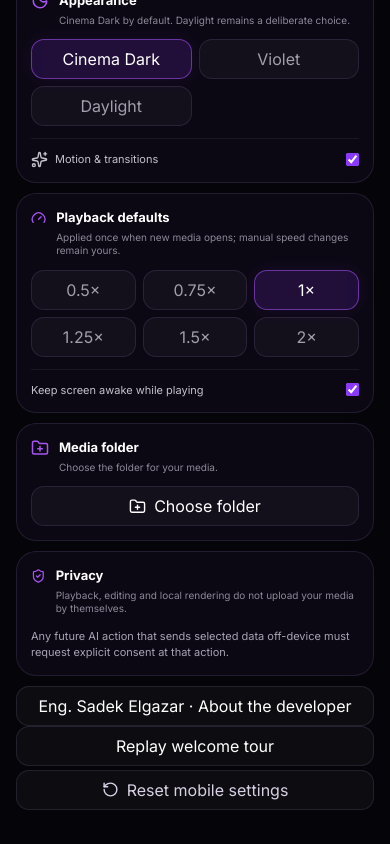
Scenario: The welcome tour is opt-in from Settings (directive §4.4) › normal startup shows no tour; the Settings button mounts it and Skip dismisses it
Step 1. Click the button "Replay welcome tour" → (195, 746), box top-left (16, 726), bottom-right (374, 766)
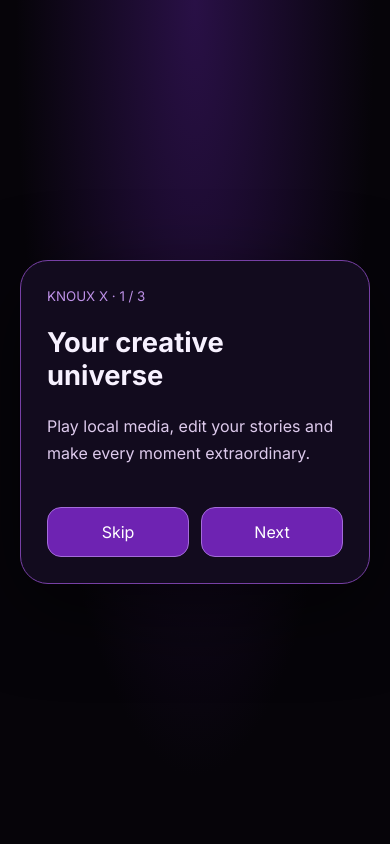
Expected: the dialog with class "km-welcome" is shown
Expected: the button "Skip" is shown
Step 2. Click the button "Skip" → (118, 532), box top-left (47, 507), bottom-right (189, 557)
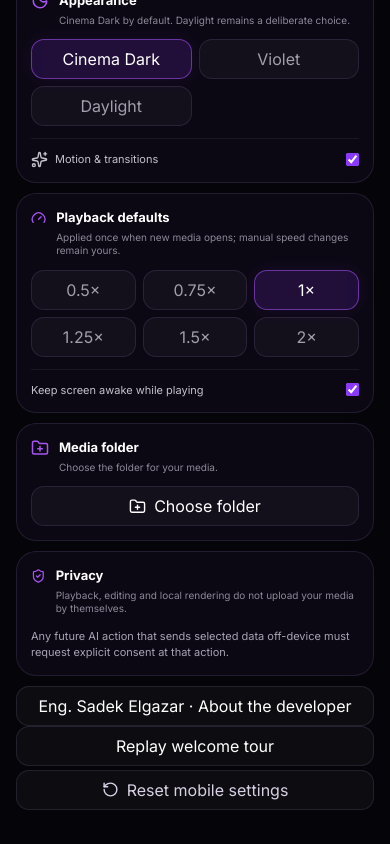
Expected: the dialog with class "km-welcome" is gone
